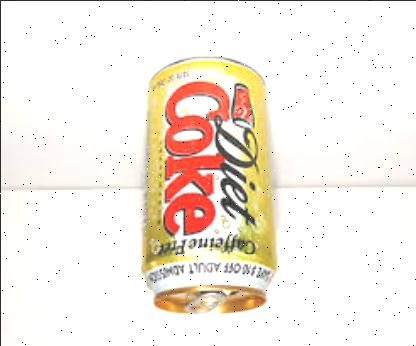Can: (144, 55, 278, 315)
